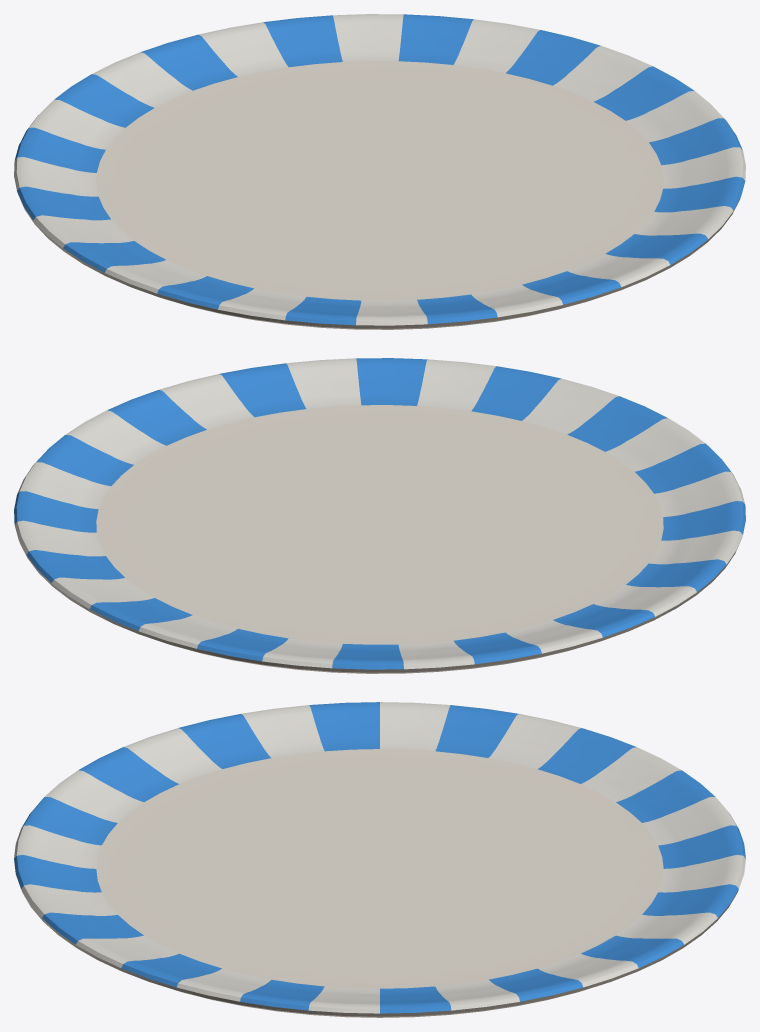
File: plate_stripes.glb
3 views of the same model, one above another, from view 1: azimuth 30°, elevation 25°; view 2: azimuth 150°, elevation 25°; view 3: azimuth 270°, elevation 25° (orthographic).
Visible parts, largest first — view 1: body; view 2: body; view 3: body.
Boxes of the visible parts, x1,y1,x2,y2 form: body: (14, 14, 745, 329); body: (14, 358, 745, 673); body: (14, 702, 745, 1017).
Bounding box in the file's own units: 1.6 × 0.0939 × 1.6.
